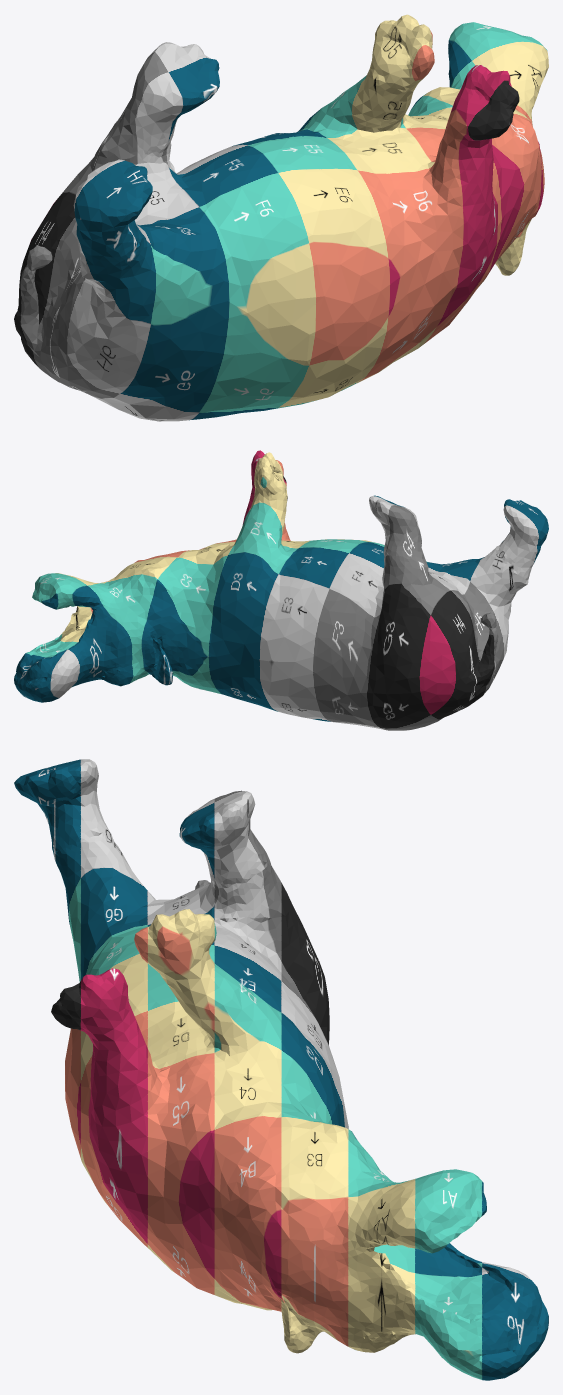
File: hippo_02.obj
3 views of the same model, one above another, from view 1: azimuth 30°, elevation 25°; view 2: azimuth 150°, elevation 25°; view 3: azimuth 270°, elevation 25° (orthographic). The views are drawn at different scales.
Visible parts, largest first — view 1: hippo_02_export; view 2: hippo_02_export; view 3: hippo_02_export.
Boxes of the visible parts, x1,y1,x2,y2 form: hippo_02_export: (14,14,548,421); hippo_02_export: (14,450,548,730); hippo_02_export: (14,759,548,1380).
Bounding box in the file's own units: 0.8747 × 0.4839 × 0.5882.
